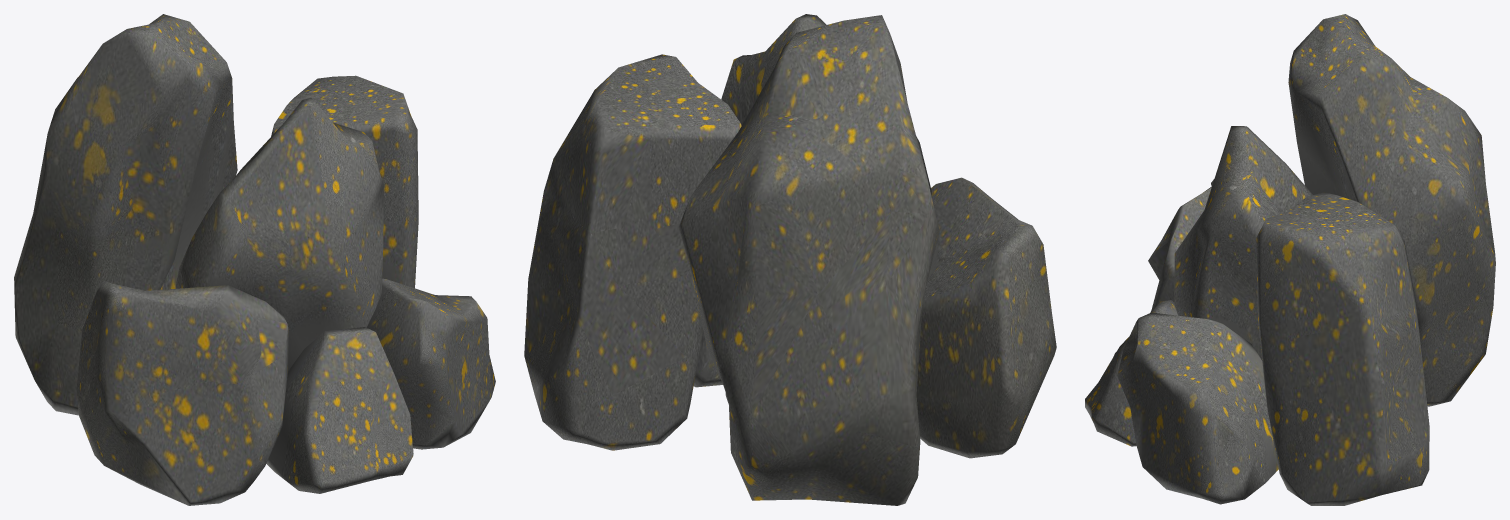
The model's file is rocks.glb.
3 views of the same model, side by side, from view 1: azimuth 30°, elevation 25°; view 2: azimuth 150°, elevation 25°; view 3: azimuth 270°, elevation 25° (orthographic). The views are drawn at different scales.
Size of the model in its own units: 1 by 1 by 1.
1 material, 1 textured.
